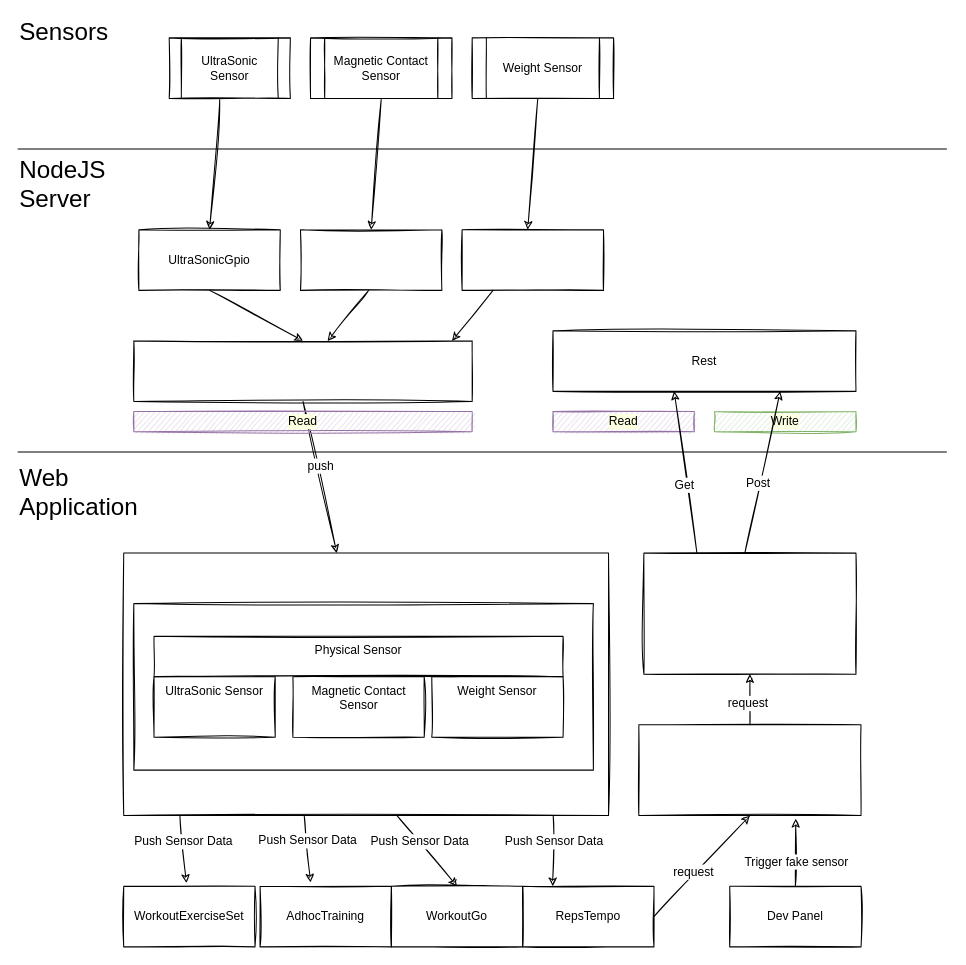
The diagram is 966 pixels wide and 965 high, and some of its shapes have lost their labels. The shapes that lost their labels are listed below. From the top down, each one's box as (x1, y1, x2, y2) in pixels, then its label:
(299, 229, 442, 290): MagneticContactGpio
(461, 229, 603, 290): WeightGpio
(133, 340, 472, 401): WebSocket App
(643, 552, 856, 674): NodeJS Client
(133, 602, 593, 770): SensorsManager
(123, 552, 609, 816): SensorContext
(638, 724, 861, 816): CommunicationContext
